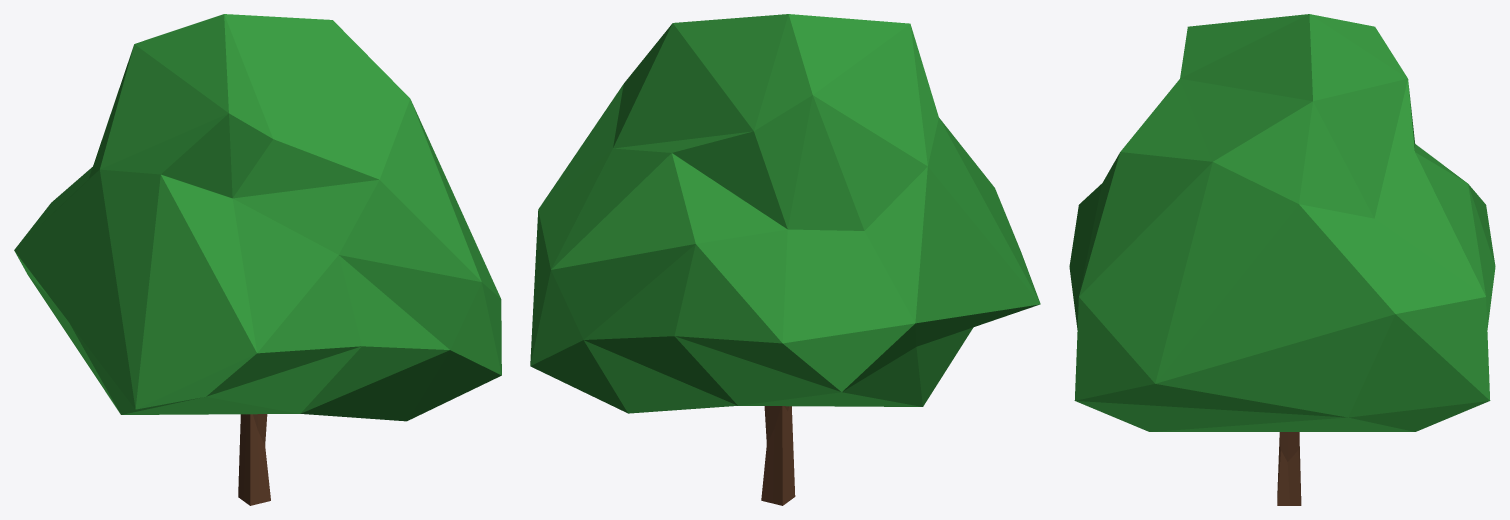
Rendered from Tree_19_Green.fbx.
3 renders of one model, left to right at view 1: azimuth 30°, elevation 25°; view 2: azimuth 150°, elevation 25°; view 3: azimuth 270°, elevation 25°, orthographic. The views are drawn at different scales.
Parts seen in each view (by area): view 1: Tree_19_Green_Part_1, Tree_19_Green_Part_2; view 2: Tree_19_Green_Part_1, Tree_19_Green_Part_2; view 3: Tree_19_Green_Part_1, Tree_19_Green_Part_2.
Boxes of the visible parts, <box> form: Tree_19_Green_Part_1: <box>14,14,501,421</box>; Tree_19_Green_Part_2: <box>238,414,270,505</box>; Tree_19_Green_Part_1: <box>530,14,1040,413</box>; Tree_19_Green_Part_2: <box>761,406,795,505</box>; Tree_19_Green_Part_1: <box>1069,14,1495,431</box>; Tree_19_Green_Part_2: <box>1277,432,1301,505</box>.
Size of the model in its own units: 641 by 800 by 647.
